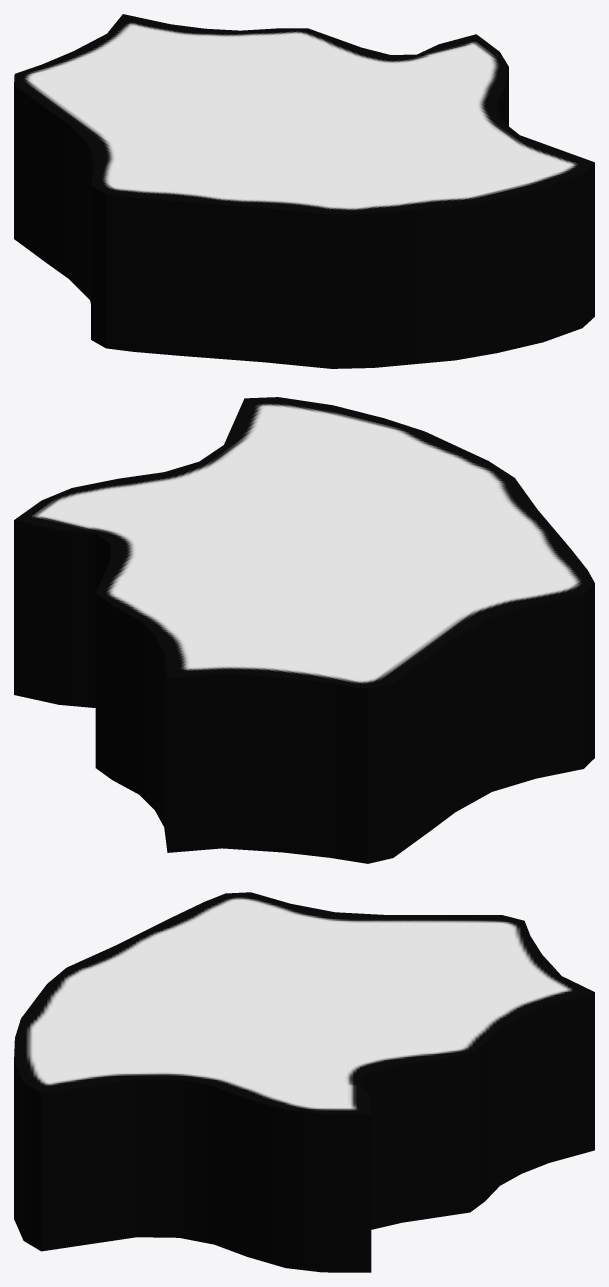
The picture shows the model from 3 angles, top to bottom: view 1: azimuth 30°, elevation 25°; view 2: azimuth 150°, elevation 25°; view 3: azimuth 270°, elevation 25°; orthographic projection. The views are drawn at different scales.
Parts seen in each view (by area): view 1: polySurface24; view 2: polySurface24; view 3: polySurface24.
Part boxes in pixels (x1,y1,x2,y2): polySurface24: [14, 14, 594, 368]; polySurface24: [14, 397, 594, 863]; polySurface24: [14, 892, 594, 1272].
Bounding box in the file's own units: 1.51 × 0.5 × 1.66.
